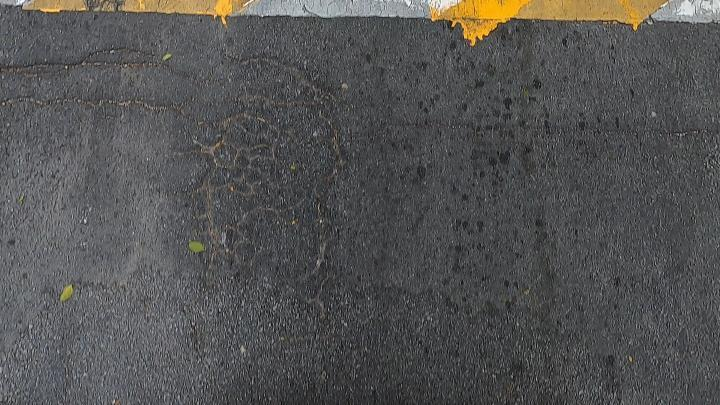Crack: (0, 44, 720, 286), (193, 57, 573, 282), (0, 84, 190, 116), (0, 49, 165, 72), (0, 59, 167, 81), (578, 121, 716, 138)
Lane: (0, 0, 720, 47), (0, 0, 719, 43)
